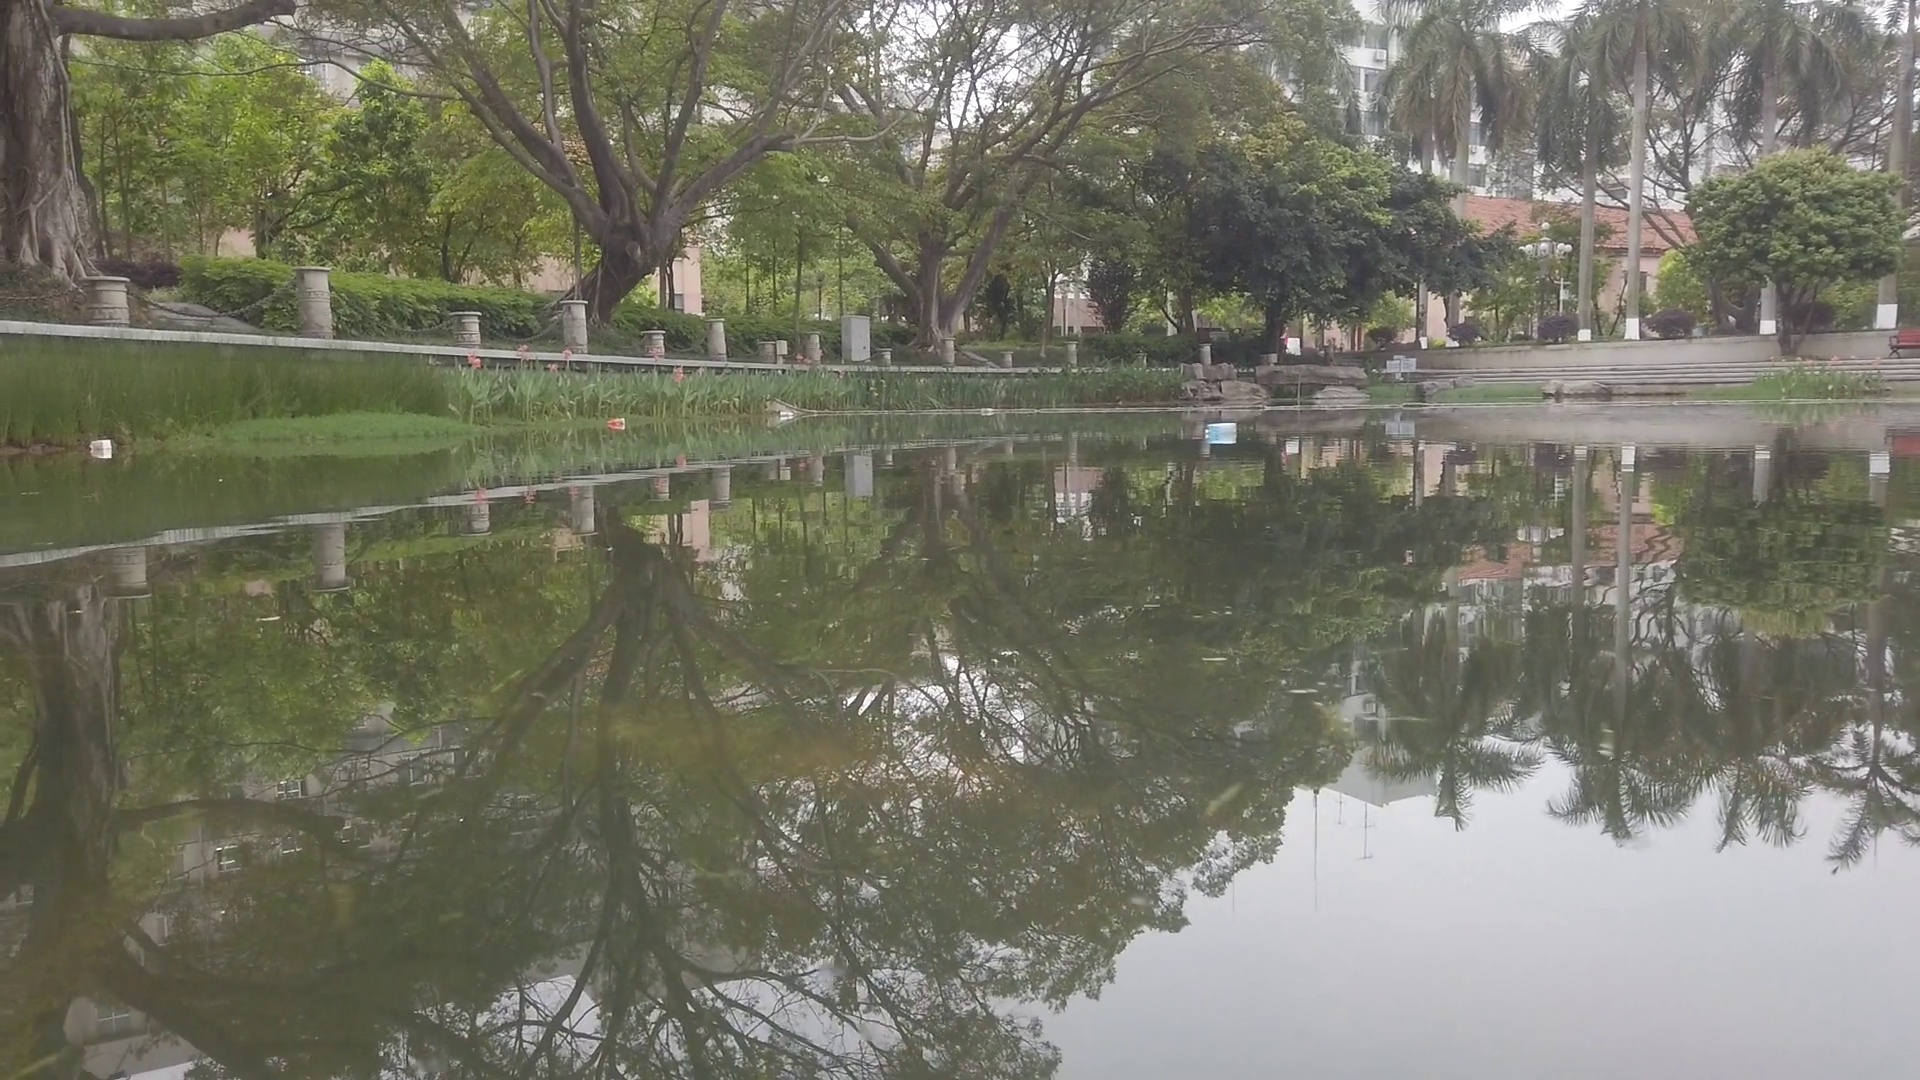bottle: (607, 417, 626, 429), (781, 409, 795, 419), (980, 407, 994, 415)
carton: (1207, 422, 1237, 438), (88, 439, 111, 451)
